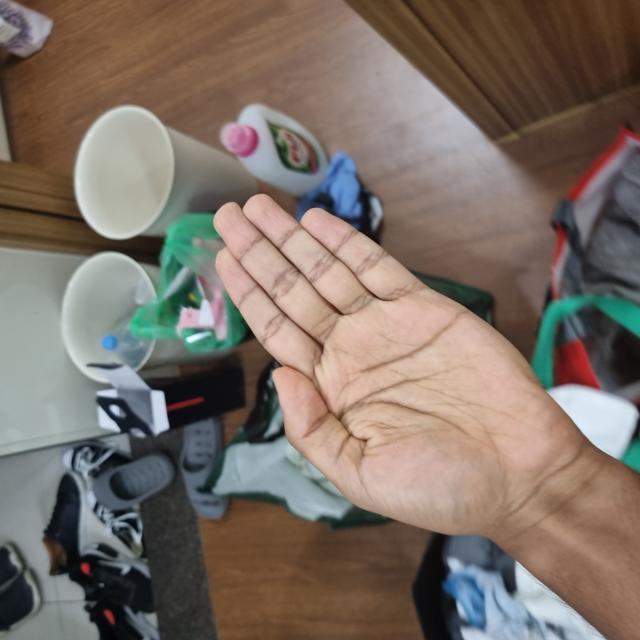Paper: (101, 214, 447, 576)
